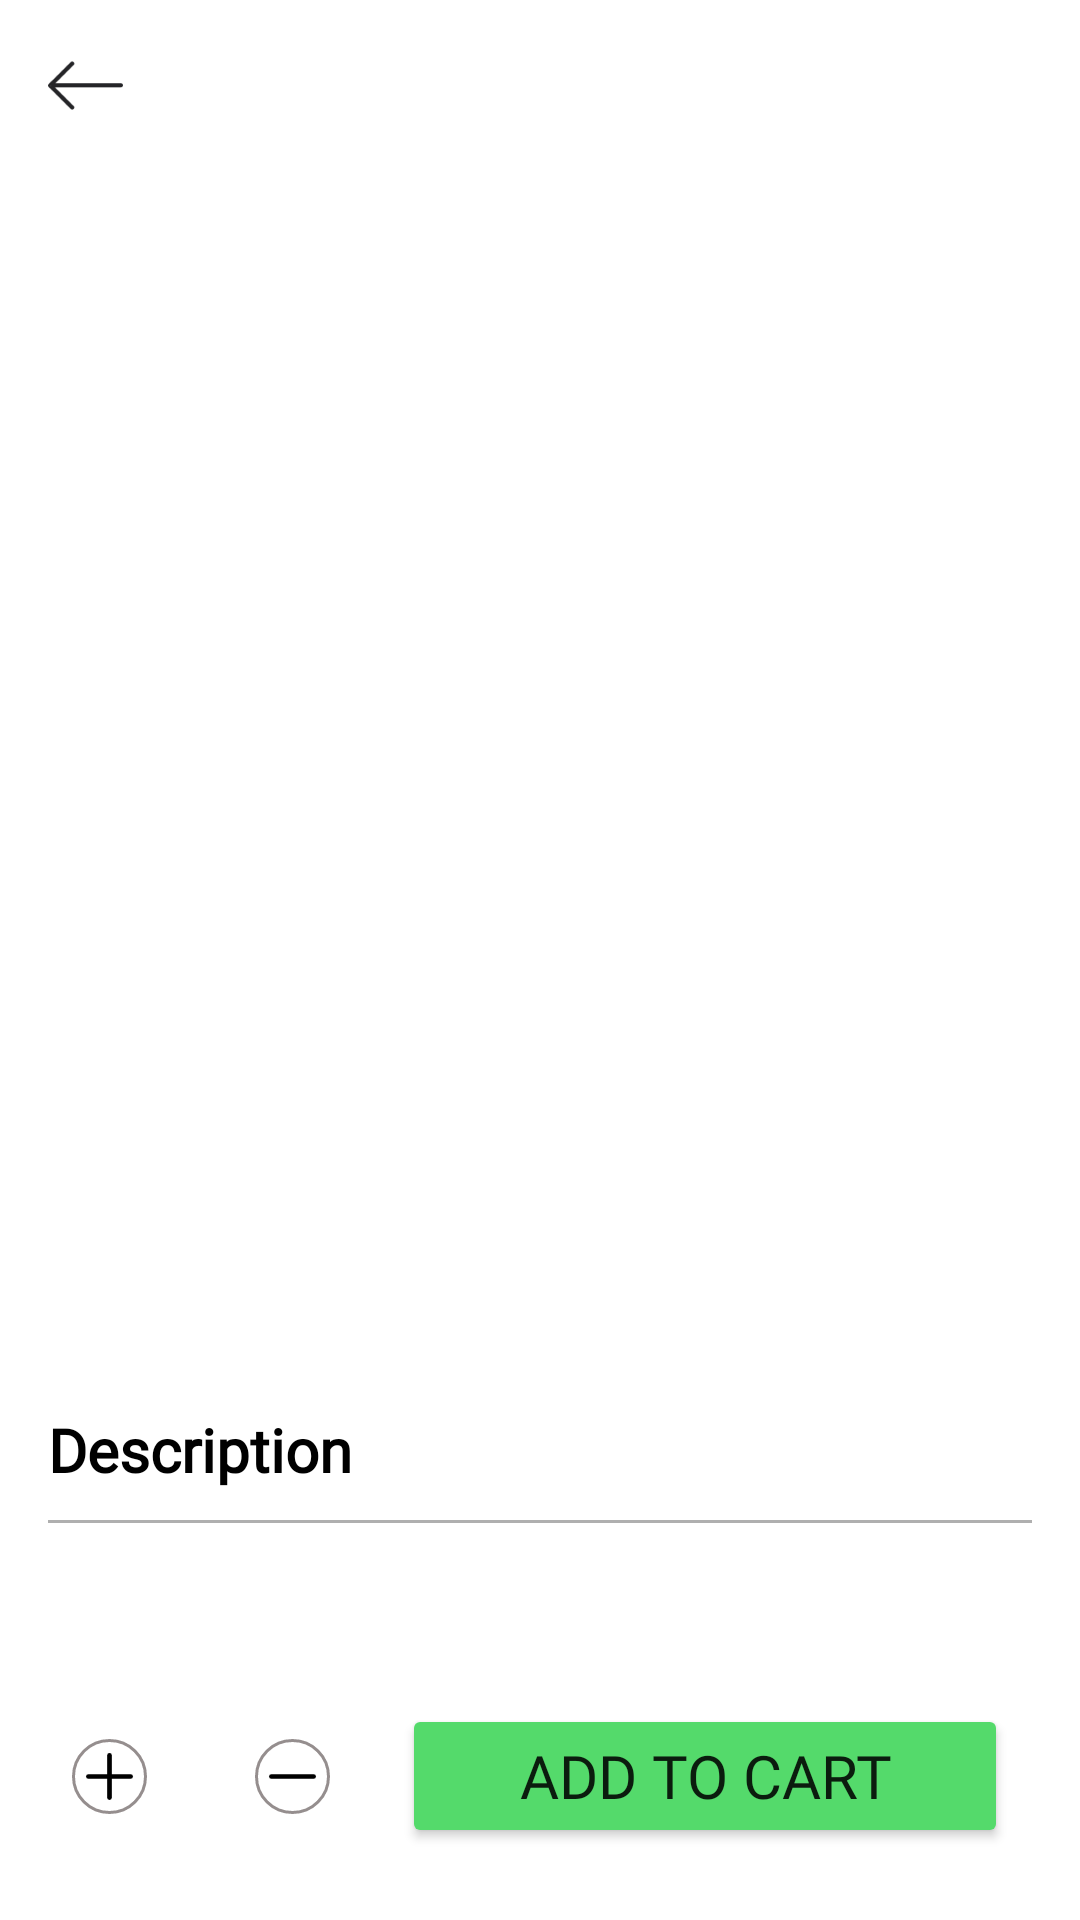

Screen size 1080x1920. Icon name, then its center in pixels as (x=x, y=y):
left arrow: (x=85, y=85)
minus: (x=292, y=1776)
plus: (x=109, y=1776)
